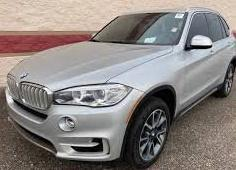Crossovers: (8, 10, 235, 168)
